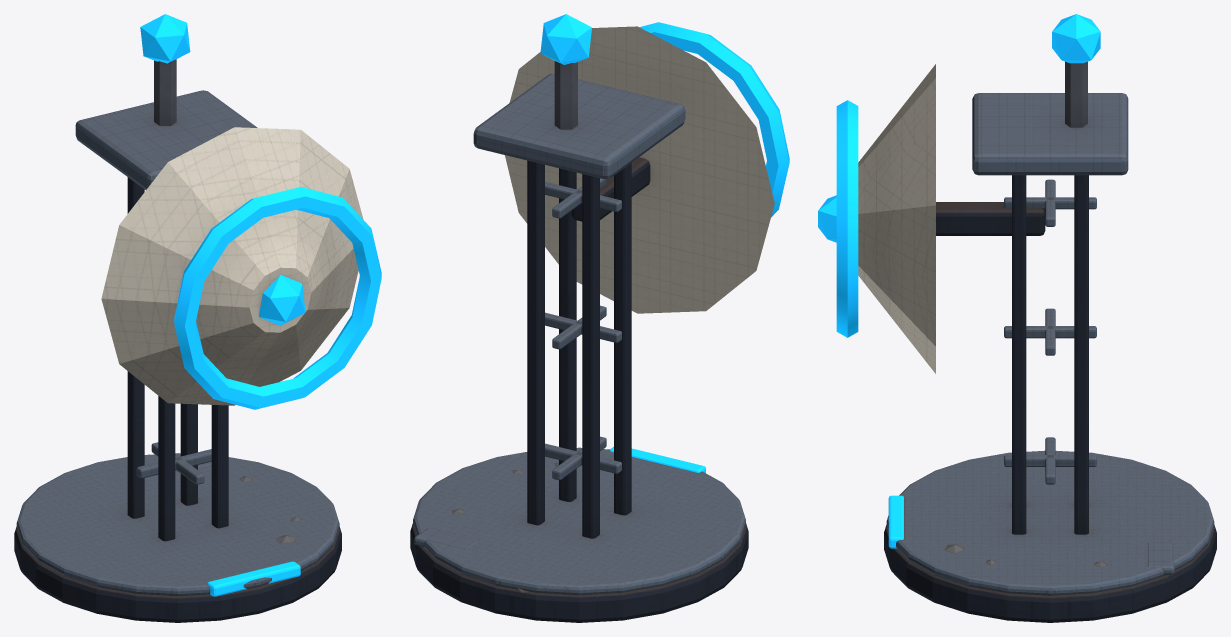
Rendered from relay-tower.glb.
3 renders of one model, left to right at view 1: azimuth 30°, elevation 25°; view 2: azimuth 150°, elevation 25°; view 3: azimuth 270°, elevation 25°, orthographic. The views are drawn at different scales.
Visible parts, largest first — view 1: Android Ceramic, Android Chassis, Android Graphite, Android FactionAccent; view 2: Android Chassis, Android Ceramic, Android Graphite, Android FactionAccent; view 3: Android Chassis, Android Graphite, Android Ceramic, Android FactionAccent.
Boxes of the visible parts, x1,y1,x2,y2 form: Android Ceramic: (101, 127, 363, 405); Android Chassis: (16, 90, 339, 595); Android Graphite: (14, 59, 341, 622); Android FactionAccent: (140, 14, 381, 596); Android Chassis: (413, 73, 745, 595); Android Ceramic: (505, 26, 774, 313); Android Graphite: (410, 61, 748, 622); Android FactionAccent: (540, 14, 789, 473); Android Chassis: (886, 93, 1214, 595); Android Graphite: (884, 61, 1216, 622); Android Ceramic: (858, 64, 935, 373); Android FactionAccent: (818, 14, 1100, 548).
Size of the model in its own units: 0.64 by 1.15 by 0.7668.
5 materials, 4 textured.
